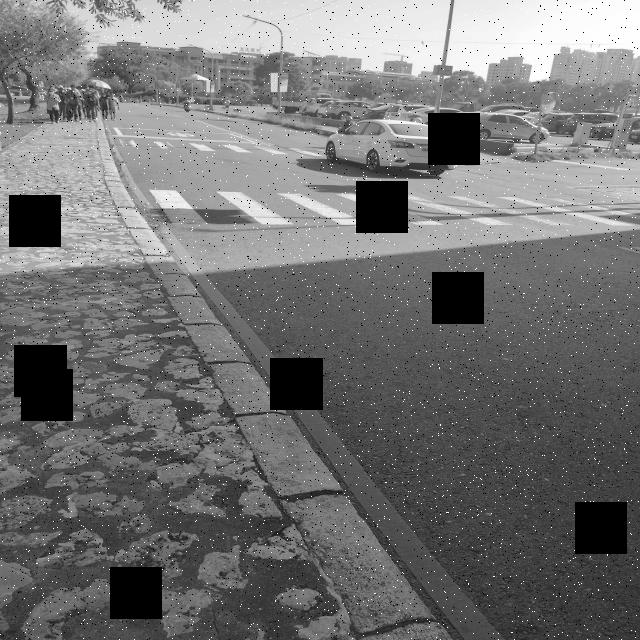zebra_crossing: (109, 51, 336, 162), (525, 107, 640, 297), (57, 64, 180, 212), (62, 53, 177, 148), (52, 51, 147, 138), (35, 52, 101, 172), (34, 75, 99, 164), (23, 45, 70, 157)
